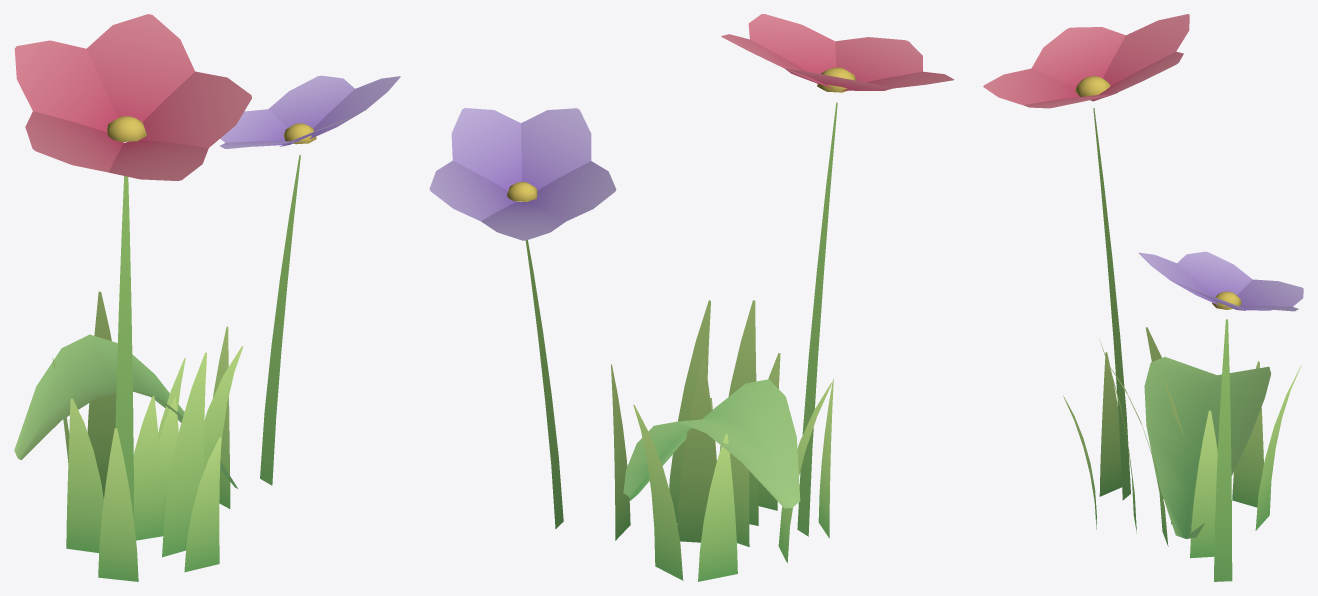
Rendered from plant_wild_1.glb.
3 views of the same model, side by side, from view 1: azimuth 30°, elevation 25°; view 2: azimuth 150°, elevation 25°; view 3: azimuth 270°, elevation 25° (orthographic). The views are drawn at different scales.
Visible parts, largest first — view 1: body; view 2: body; view 3: body.
Boxes of the visible parts, box(x1,y1,x2,y2) form: body: box(14, 14, 400, 581); body: box(429, 14, 954, 581); body: box(983, 14, 1303, 581).
Size of the model in its own units: 0.6001 by 0.6829 by 0.4336.
